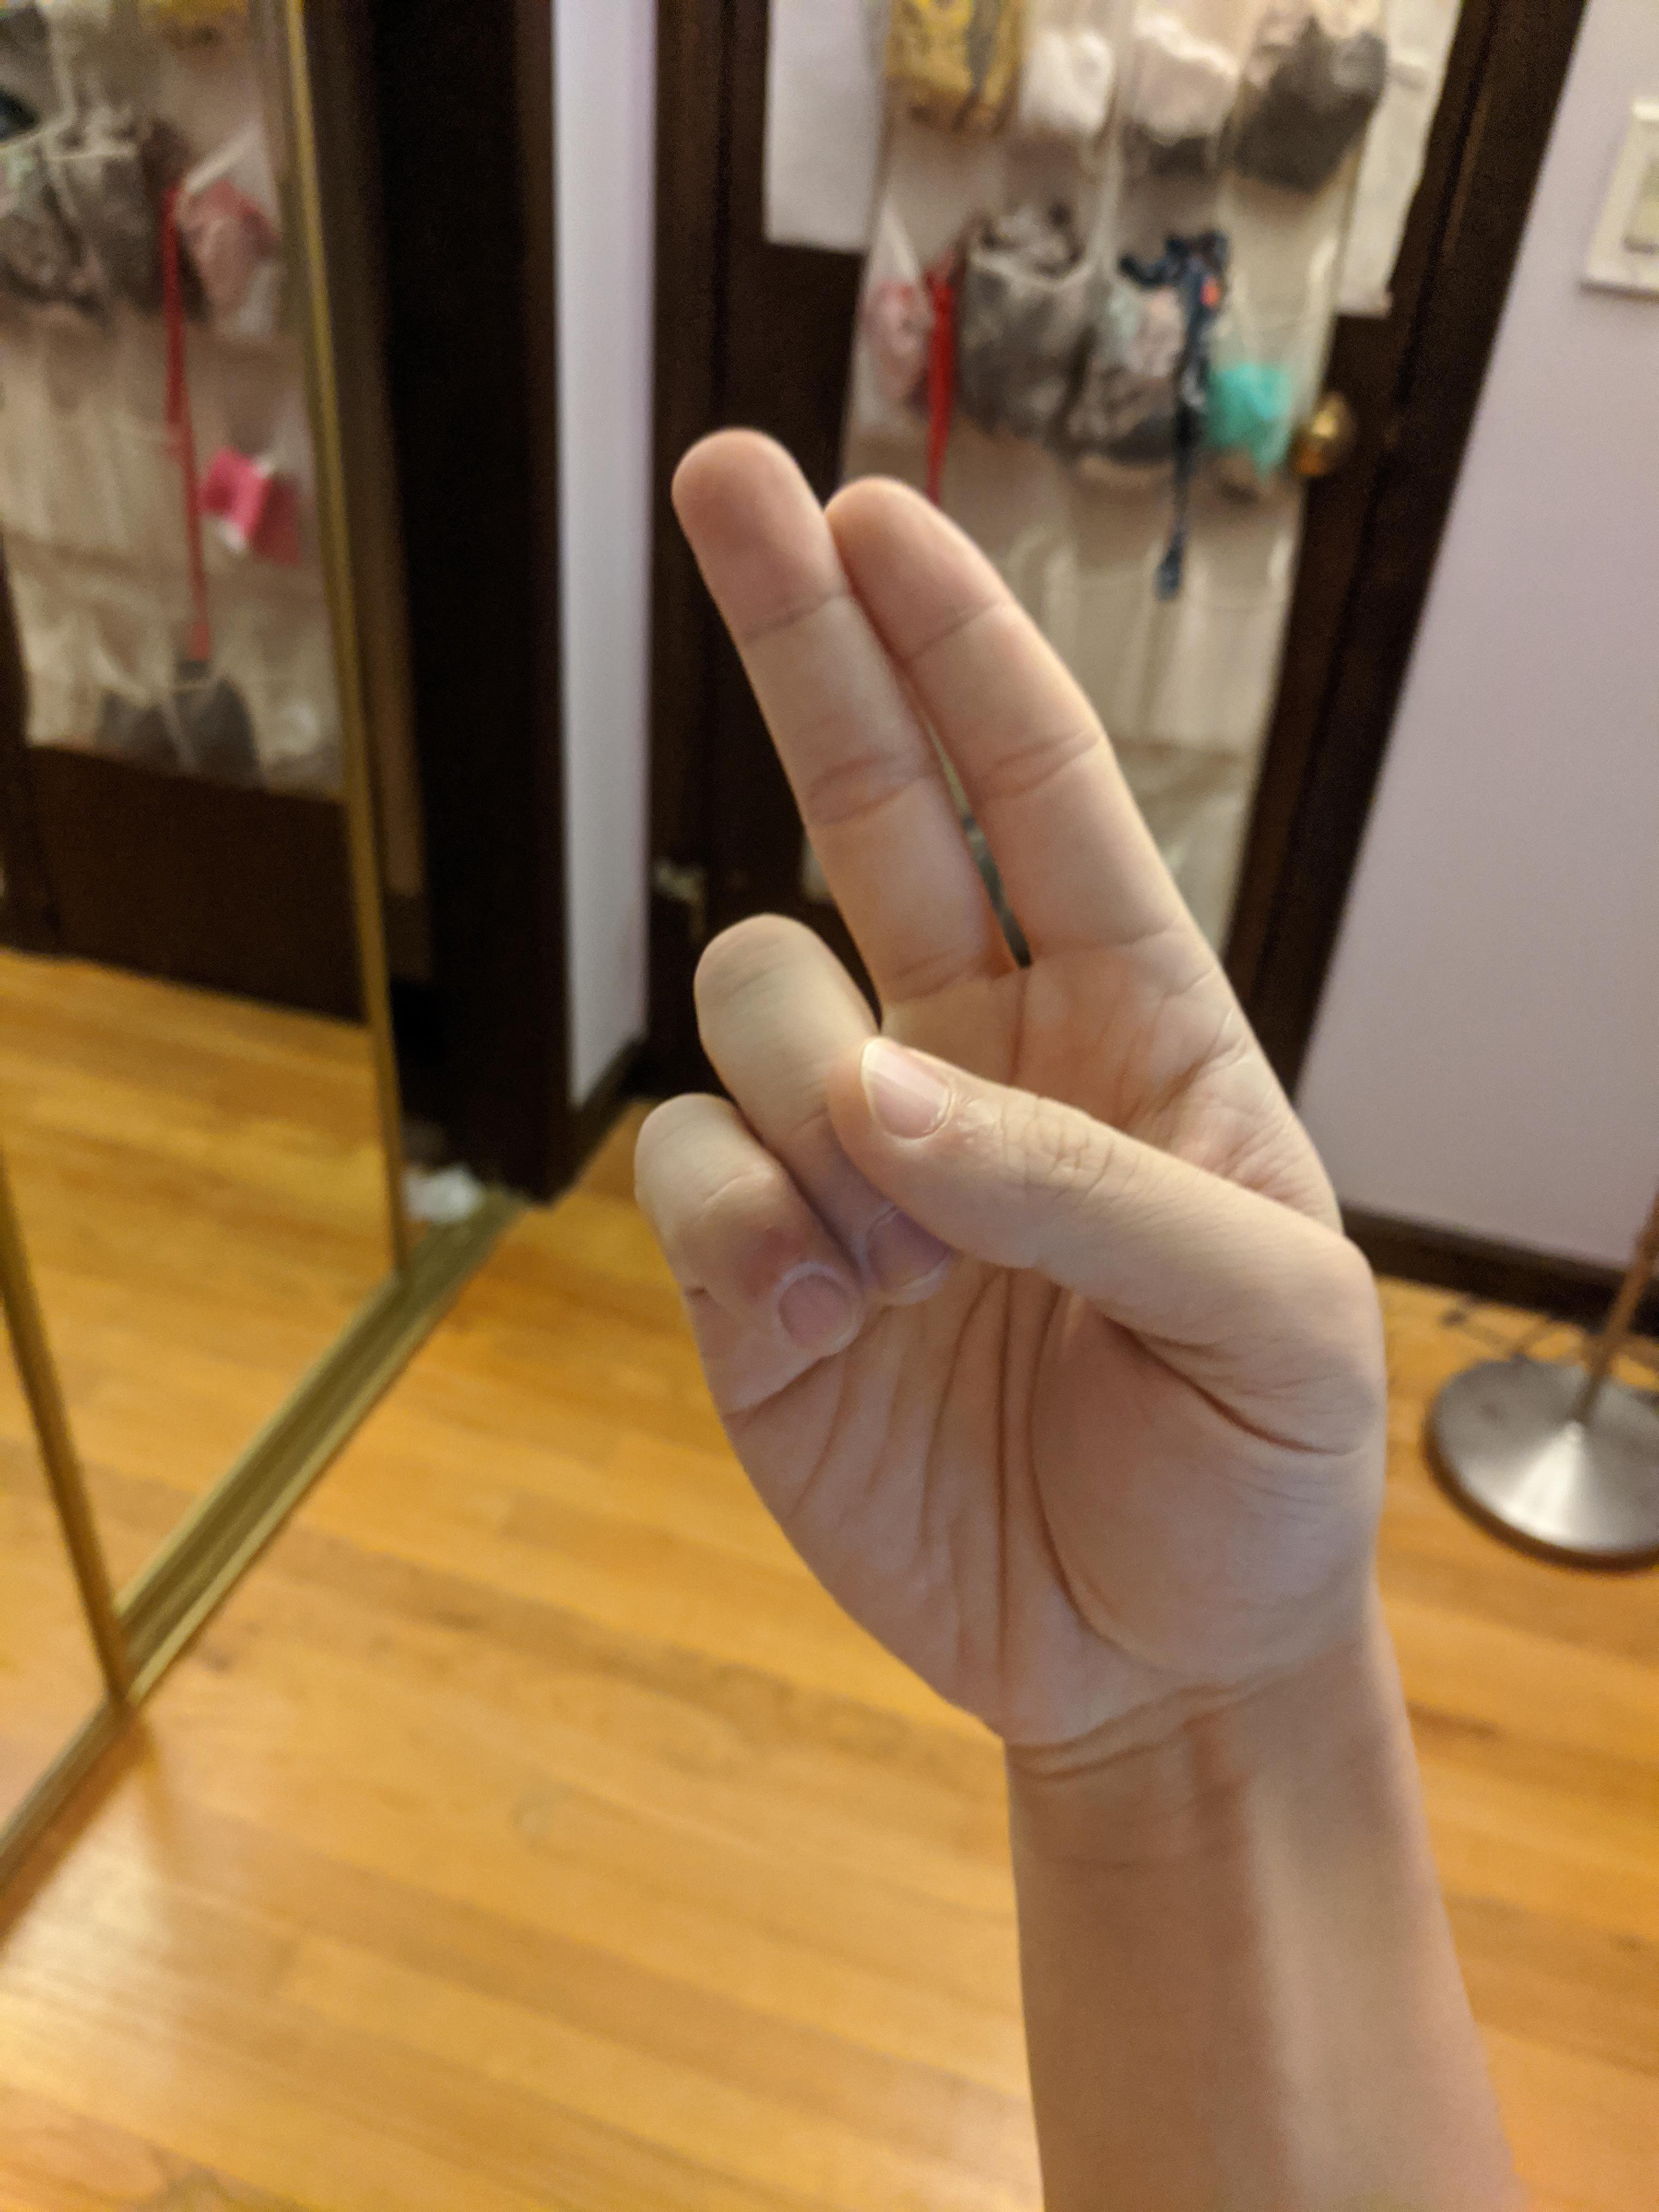U: (616, 408, 1421, 1749)
